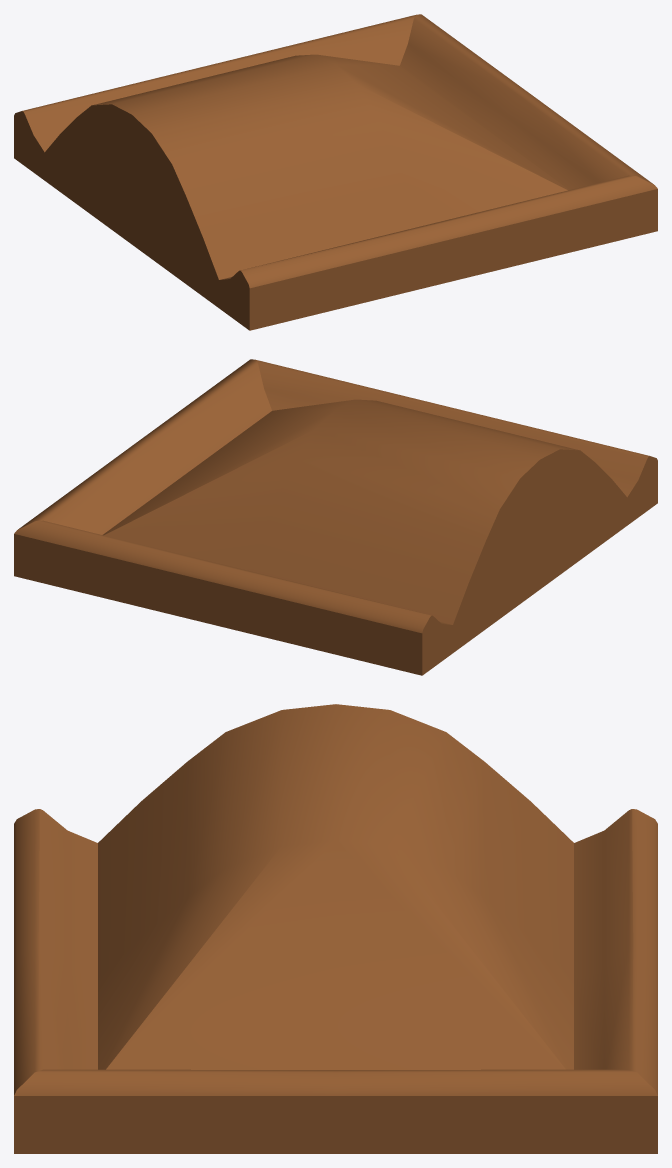
The model's file is 005_006_007_008_wall_deco_1_join.glb.
The picture shows the model from 3 angles, top to bottom: view 1: azimuth 30°, elevation 25°; view 2: azimuth 150°, elevation 25°; view 3: azimuth 270°, elevation 25°; orthographic projection. The views are drawn at different scales.
Visible parts, largest first — view 1: deco; view 2: deco; view 3: deco.
Part boxes in pixels (x1,y1,x2,y2): deco: [14, 14, 657, 330]; deco: [14, 359, 657, 675]; deco: [14, 704, 657, 1153].
Bounding box in the file's own units: 0.75 × 0.2282 × 0.75.
